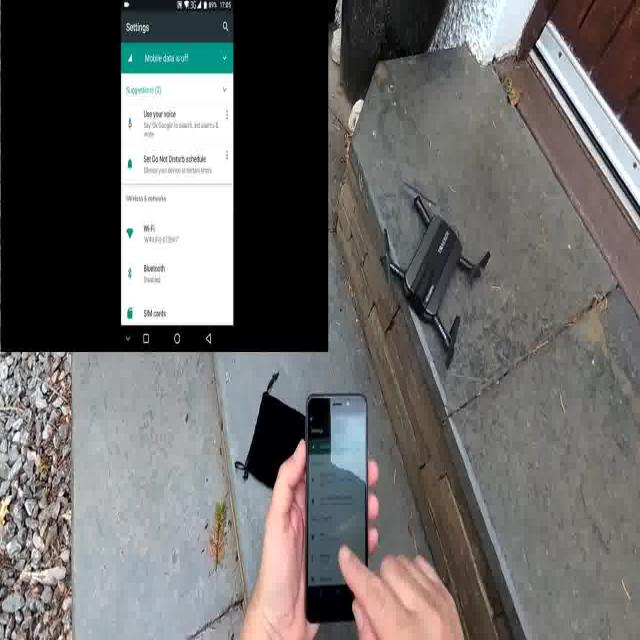Drone_FW: (372, 183, 494, 371)
